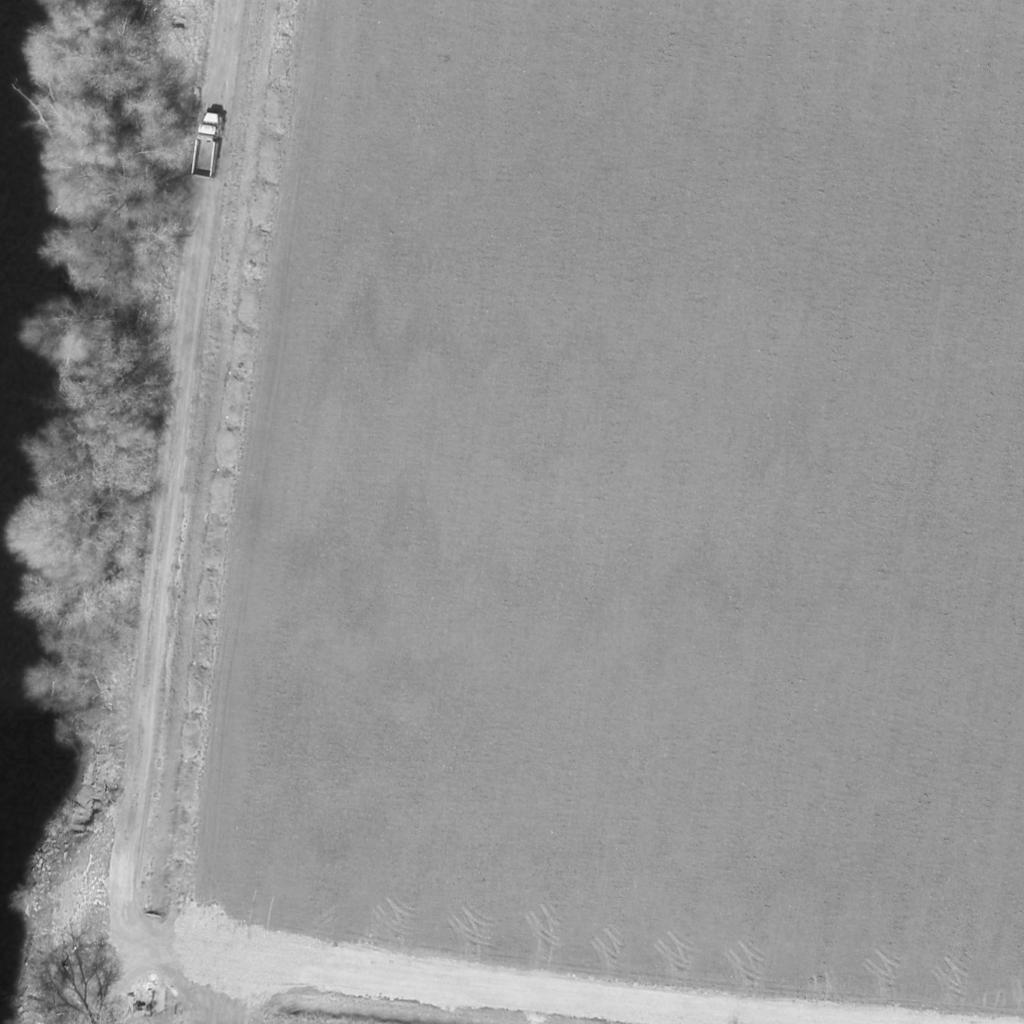vehicle: (192, 112, 226, 182)
